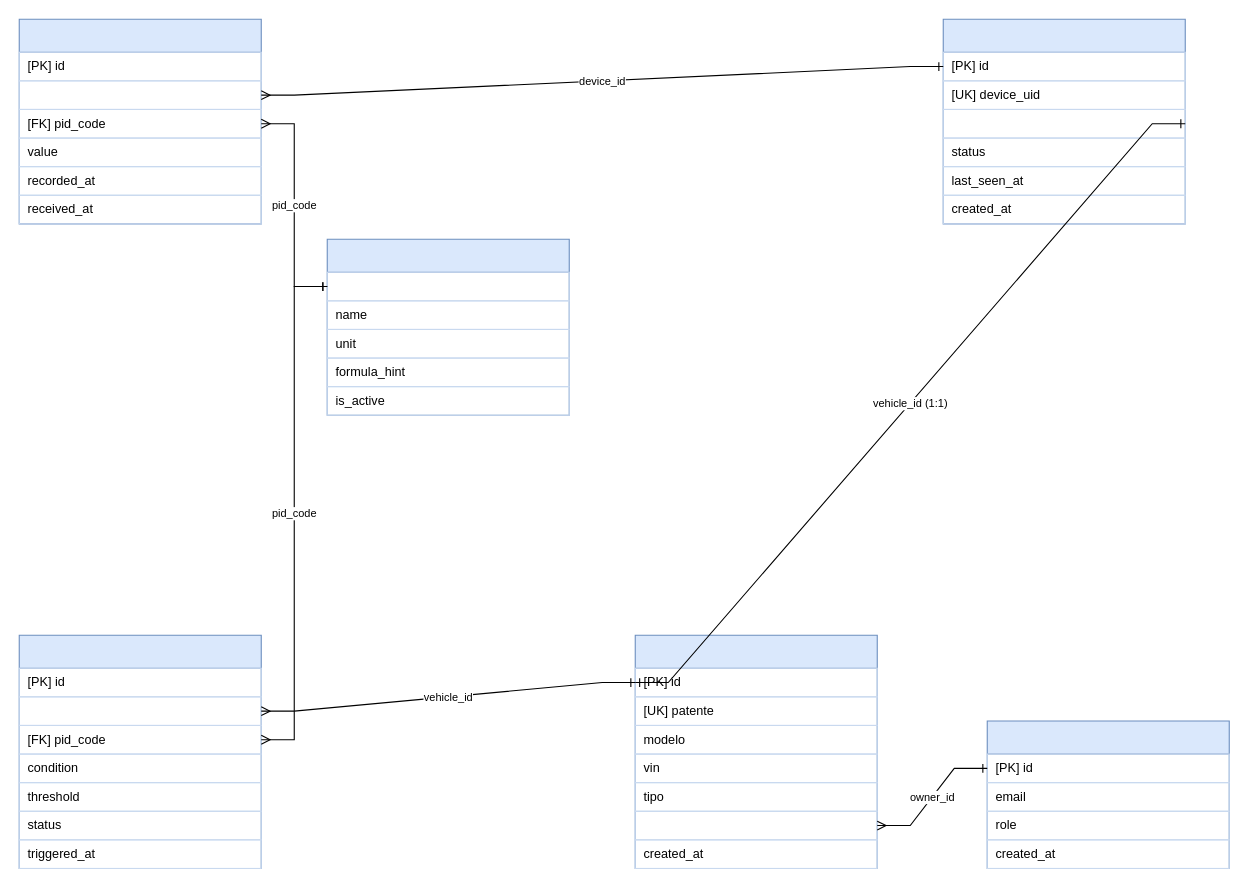
The diagram is 1249 pixels wide and 888 high, and some of its shapes have lost their labels. The box of each missing label's shape, as (x1, y1, x2, y2) in pixels:
[FK/UK] vehicle_id: (942, 108, 1185, 138)
[FK] device_id: (18, 80, 261, 109)
[FK] owner_id: (634, 810, 877, 840)
[FK] vehicle_id: (18, 696, 261, 725)
[PK] pid_code: (326, 271, 569, 301)
alerts: (18, 634, 261, 868)
devices: (942, 18, 1185, 224)
pids_catalog: (326, 238, 569, 415)
telemetry_readings: (18, 18, 261, 224)
users: (986, 720, 1229, 868)
vehicles: (634, 634, 877, 868)
